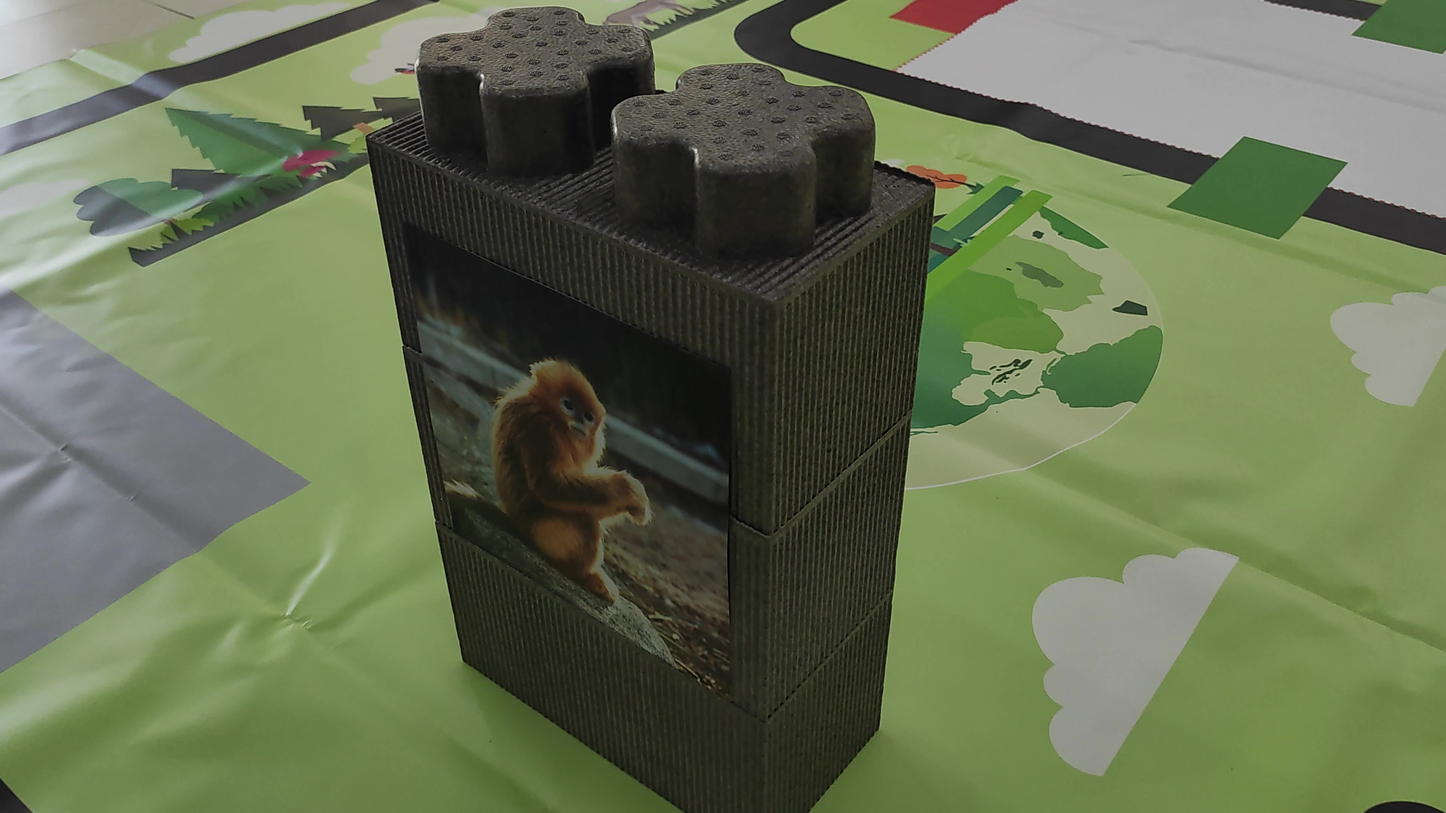monkey: (415, 325, 688, 600)
